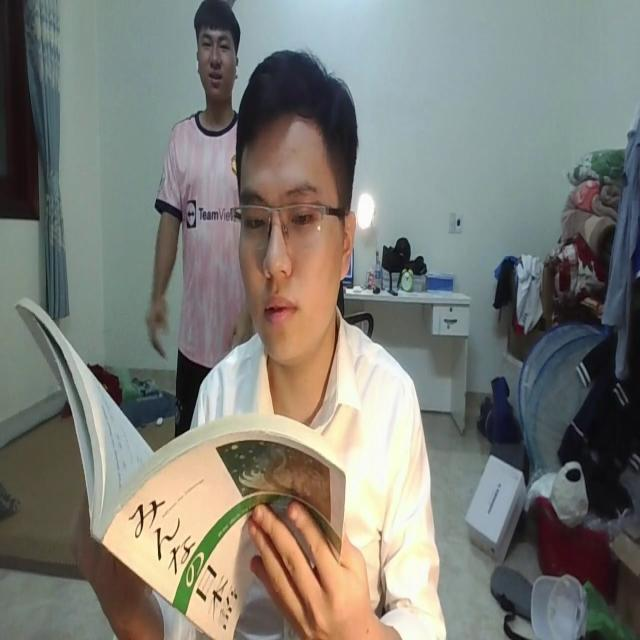book: (17, 286, 347, 640)
extra_person: (143, 3, 250, 436)
student: (190, 46, 446, 640)
